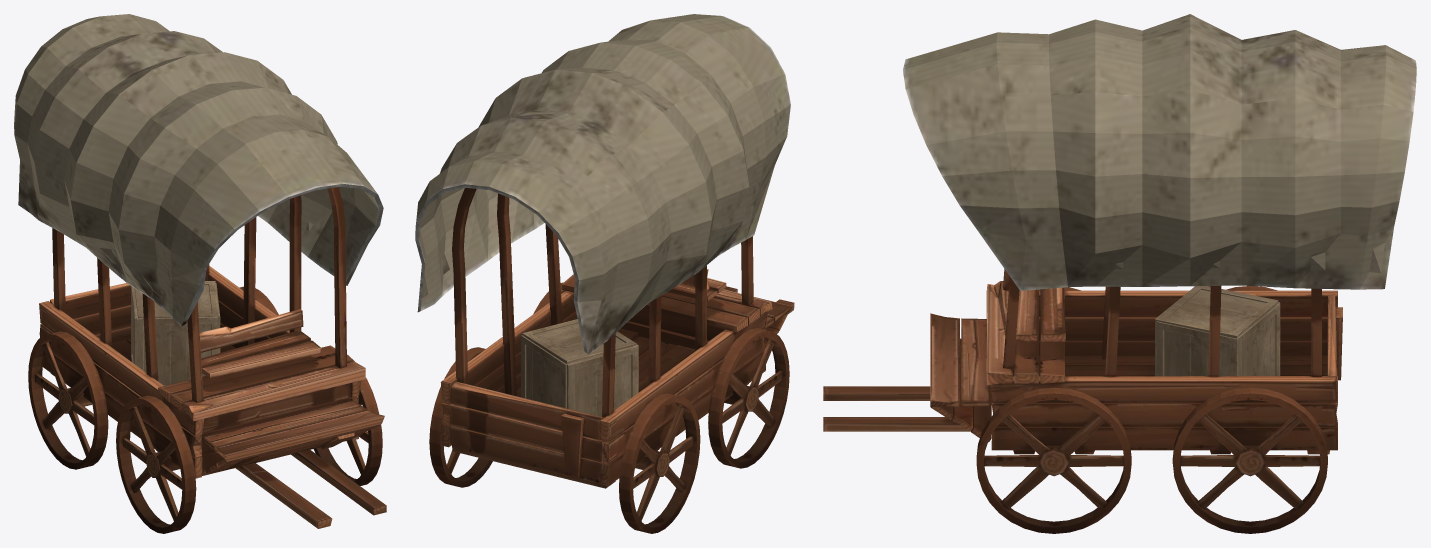
3 views of the same model, side by side, from view 1: azimuth 30°, elevation 25°; view 2: azimuth 150°, elevation 25°; view 3: azimuth 270°, elevation 25° (orthographic). The views are drawn at different scales.
Visible parts, largest first — view 1: slot_canvas_top, slot_anchor_frame, slot_front_wheels, slot_bed_barrel; view 2: slot_canvas_top, slot_anchor_frame, slot_bed_barrel, slot_front_wheels; view 3: slot_canvas_top, slot_anchor_frame, slot_front_wheels, slot_bed_barrel.
Part boxes in pixels (bbox=[...]): slot_canvas_top: bbox=[14, 14, 383, 326]; slot_anchor_frame: bbox=[28, 187, 386, 528]; slot_front_wheels: bbox=[116, 354, 382, 533]; slot_bed_barrel: bbox=[131, 281, 220, 385]; slot_canvas_top: bbox=[415, 14, 790, 354]; slot_anchor_frame: bbox=[429, 188, 794, 533]; slot_bed_barrel: bbox=[521, 319, 638, 416]; slot_front_wheels: bbox=[533, 282, 789, 468]; slot_canvas_top: bbox=[903, 14, 1416, 290]; slot_anchor_frame: bbox=[823, 269, 1342, 533]; slot_front_wheels: bbox=[976, 287, 1131, 533]; slot_bed_barrel: bbox=[1155, 286, 1280, 376].
Size of the model in its own units: 1.15 by 1.89 by 2.24.
Materials: 3 (3 with a texture image).
